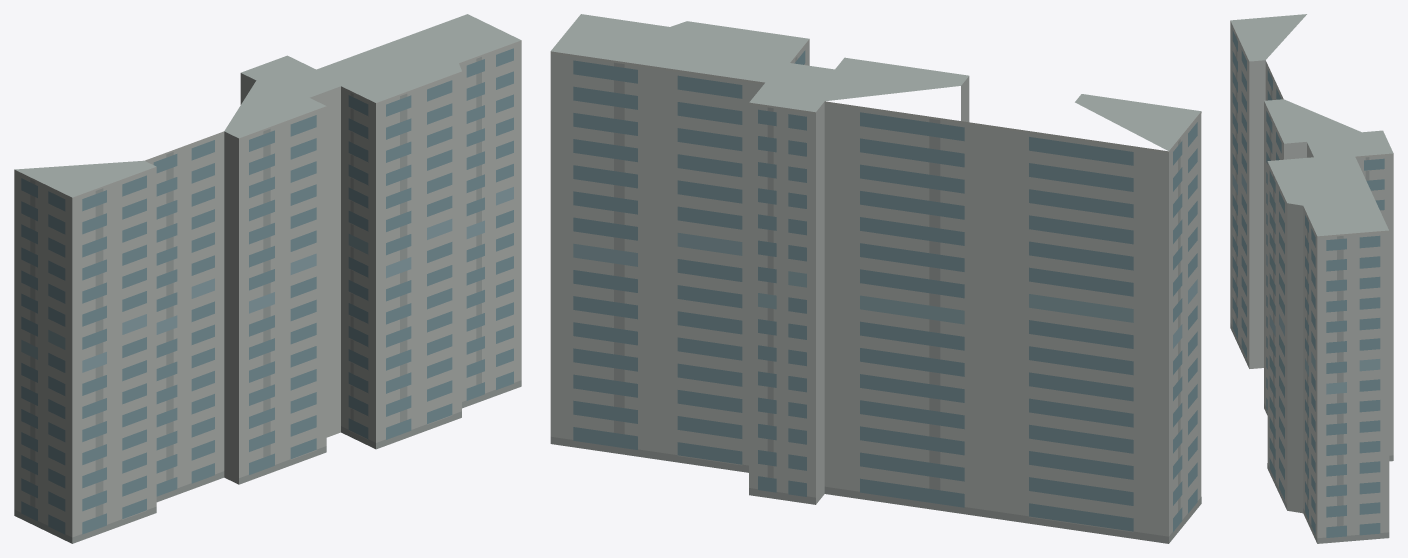
The model's file is residential-0629aa19-4d59-4129-8ac7-b45c724e5943.glb.
The picture shows the model from 3 angles, left to right: view 1: azimuth 30°, elevation 25°; view 2: azimuth 150°, elevation 25°; view 3: azimuth 270°, elevation 25°; orthographic projection. The views are drawn at different scales.
Visible parts, largest first — view 1: residential-0629aa19-4d59-4129-8ac7-b45c724e5943.tmp; view 2: residential-0629aa19-4d59-4129-8ac7-b45c724e5943.tmp; view 3: residential-0629aa19-4d59-4129-8ac7-b45c724e5943.tmp.
Boxes of the visible parts, x1,y1,x2,y2 form: residential-0629aa19-4d59-4129-8ac7-b45c724e5943.tmp: (14, 14, 521, 543); residential-0629aa19-4d59-4129-8ac7-b45c724e5943.tmp: (550, 14, 1201, 543); residential-0629aa19-4d59-4129-8ac7-b45c724e5943.tmp: (1230, 14, 1393, 543).
Size of the model in its own units: 70.93 by 45.75 by 22.02.
